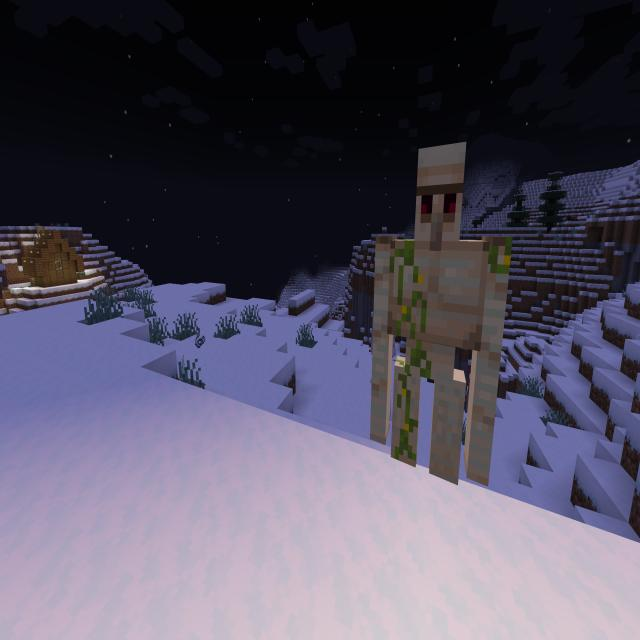Iron Golem: (367, 134, 514, 495)
